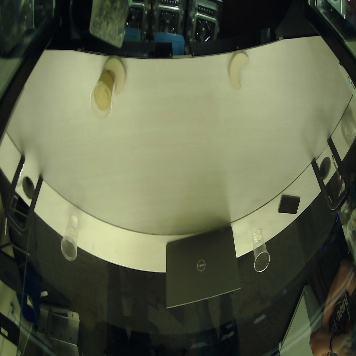empty_cup: (57, 211, 86, 268), (245, 220, 274, 277)
full_cup: (89, 66, 121, 121)
puck: (104, 54, 130, 96), (227, 49, 253, 91)
